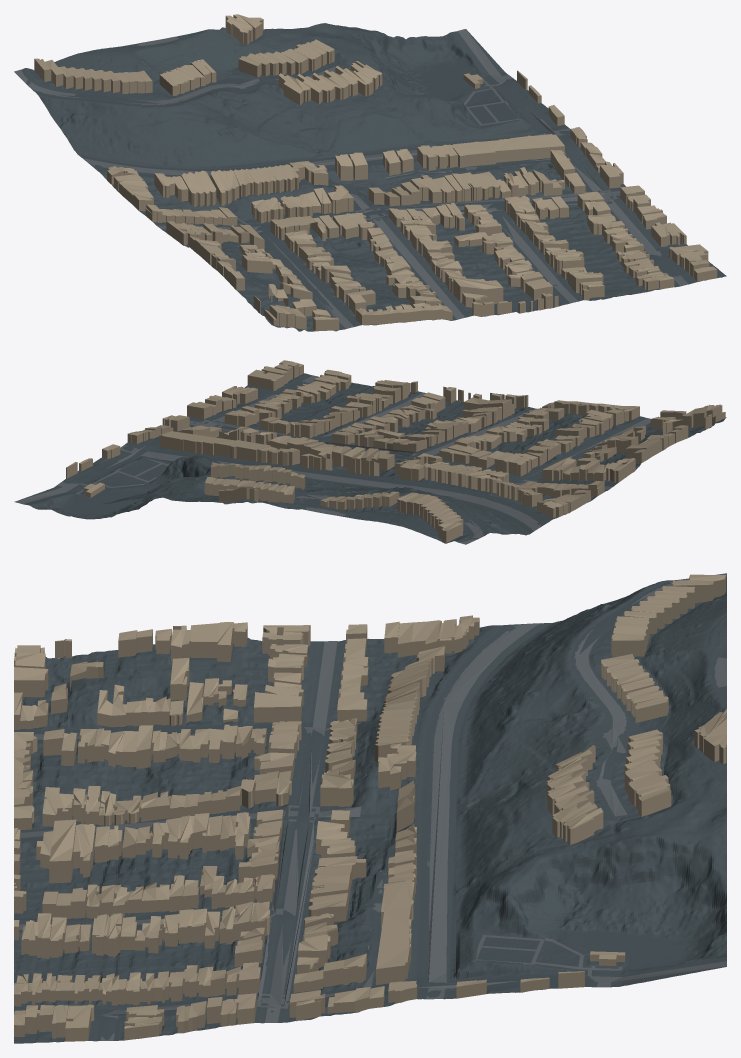
The model's file is epsg26910-1430-10880.lod0.glb.
3 renders of one model, top to bottom at view 1: azimuth 30°, elevation 25°; view 2: azimuth 150°, elevation 25°; view 3: azimuth 270°, elevation 25°, orthographic. The views are drawn at different scales.
Visible parts, largest first — view 1: epsg26910-1430-10880-lod0; view 2: epsg26910-1430-10880-lod0; view 3: epsg26910-1430-10880-lod0.
Boxes of the visible parts, <box> form: epsg26910-1430-10880-lod0: <box>14,14,726,331</box>; epsg26910-1430-10880-lod0: <box>14,360,726,544</box>; epsg26910-1430-10880-lod0: <box>14,573,726,1043</box>.
Size of the model in its own units: 384 by 108 by 384.
